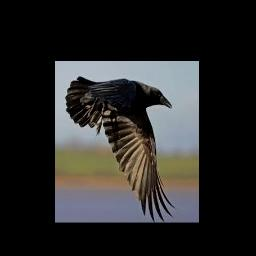Crow: (65, 77, 176, 222)
